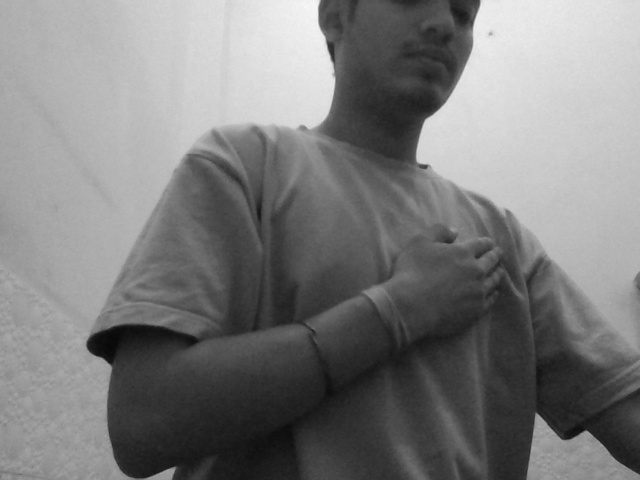Sorry: (354, 193, 581, 377)
